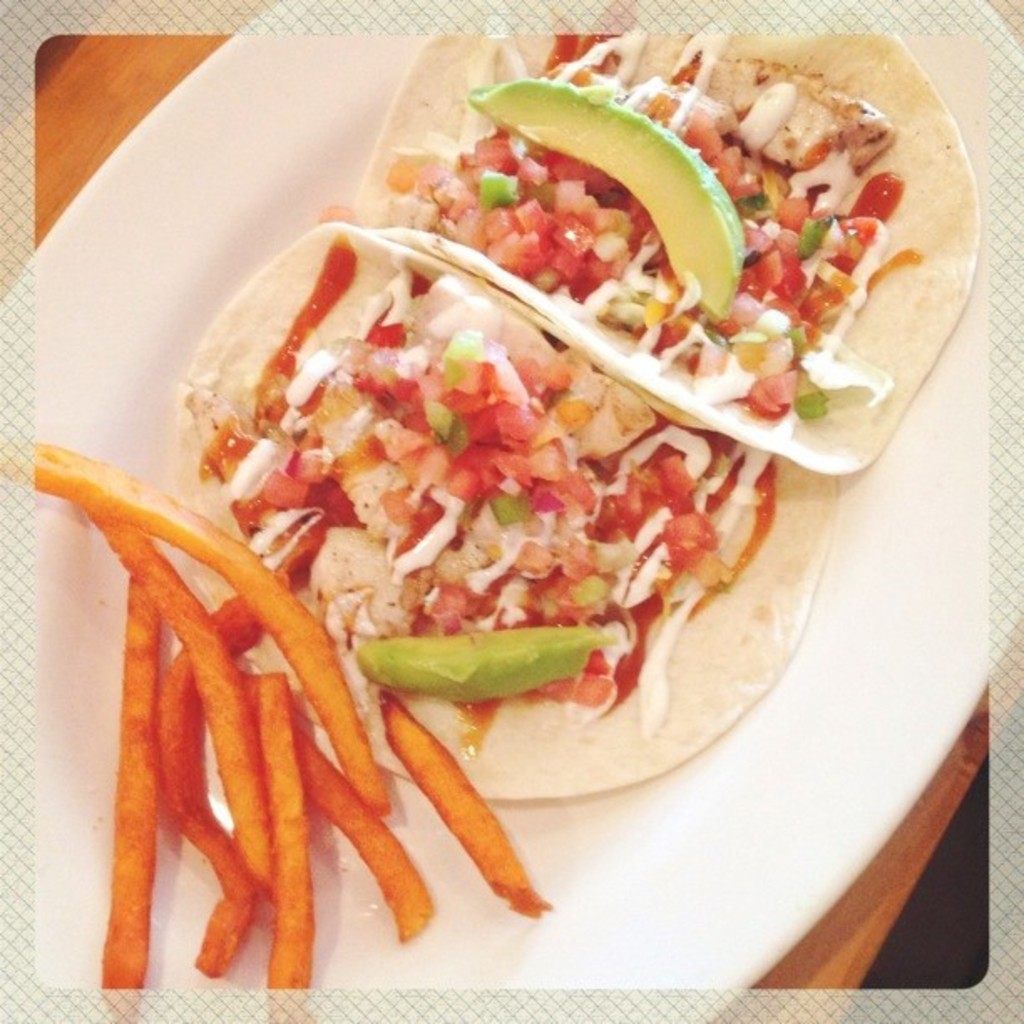taco: (166, 201, 830, 790), (348, 32, 975, 475)
